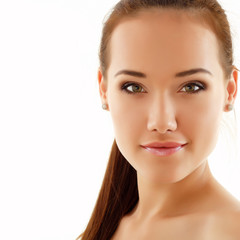teen: (102, 8, 237, 181)
